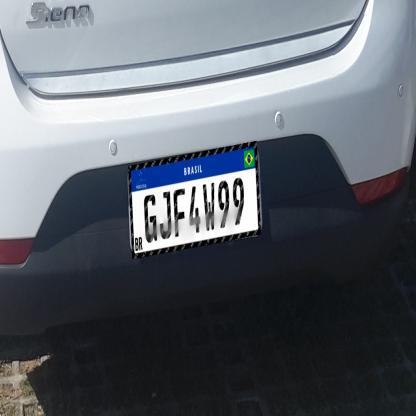PlacaM: (128, 141, 261, 259)
